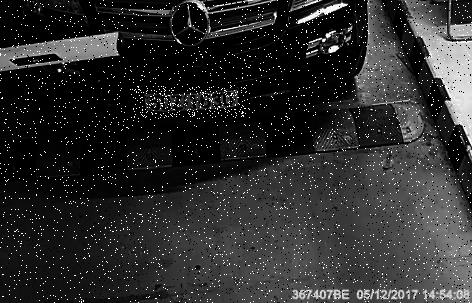License-plate: (132, 87, 251, 119)
